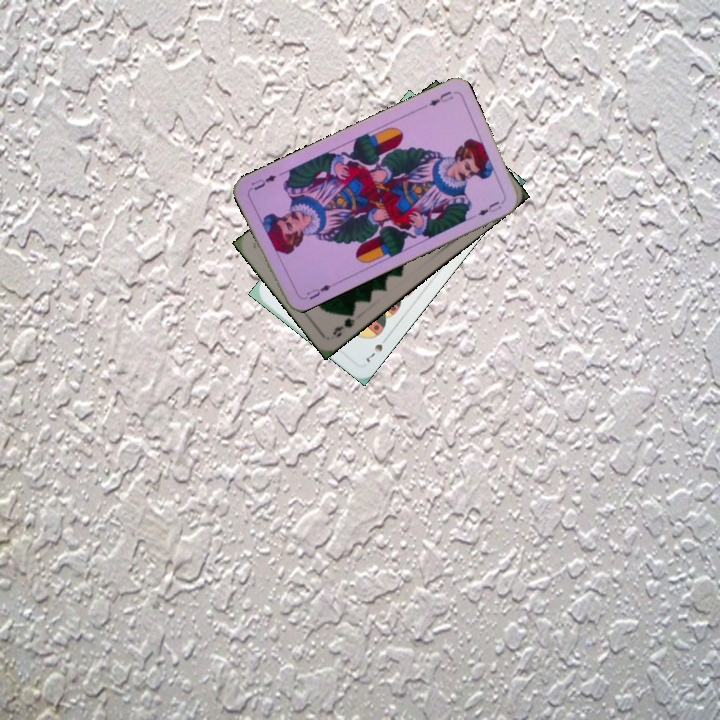EU: (299, 279, 337, 302), (425, 87, 456, 109)
G9: (328, 306, 358, 340)
S7: (361, 332, 390, 366)
